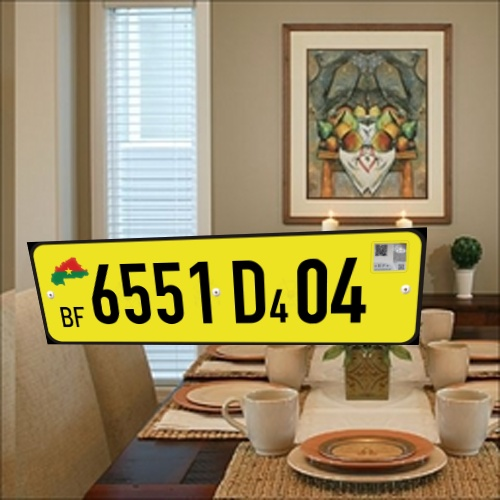plate: (21, 218, 443, 355)
